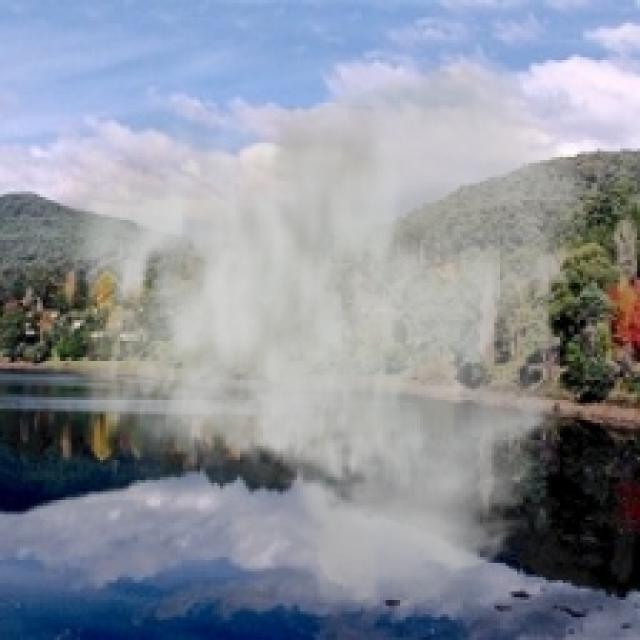Smoke: (39, 51, 592, 614)
